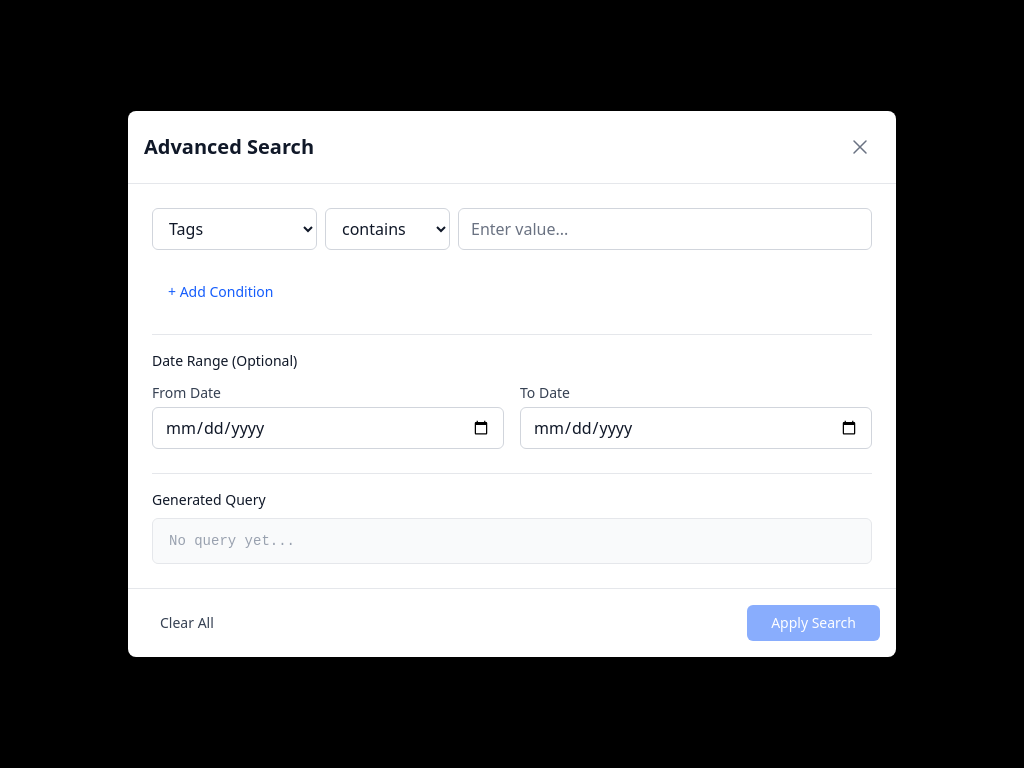
Test: AdvancedSearchBuilder › adding conditions › should show boolean operator between conditions
Click the button "+ Add Condition". click: x=221, y=292
box: [152,274,289,310]
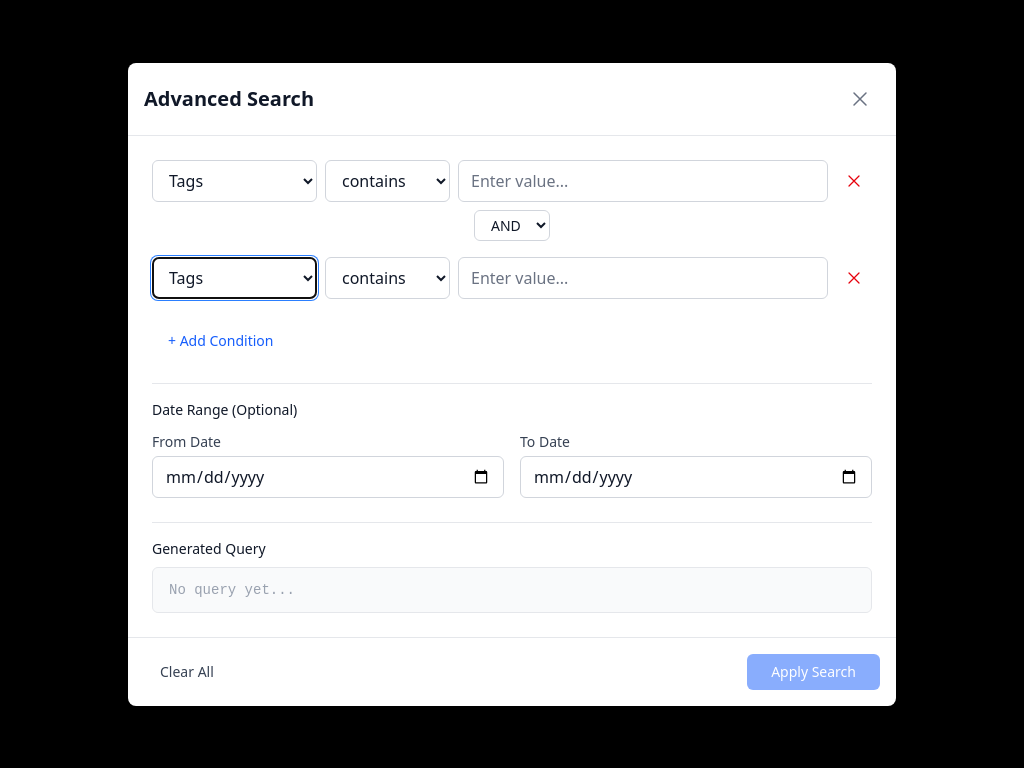
Check: the dropdown named "combine with" is shown, box [474,210,550,240]
